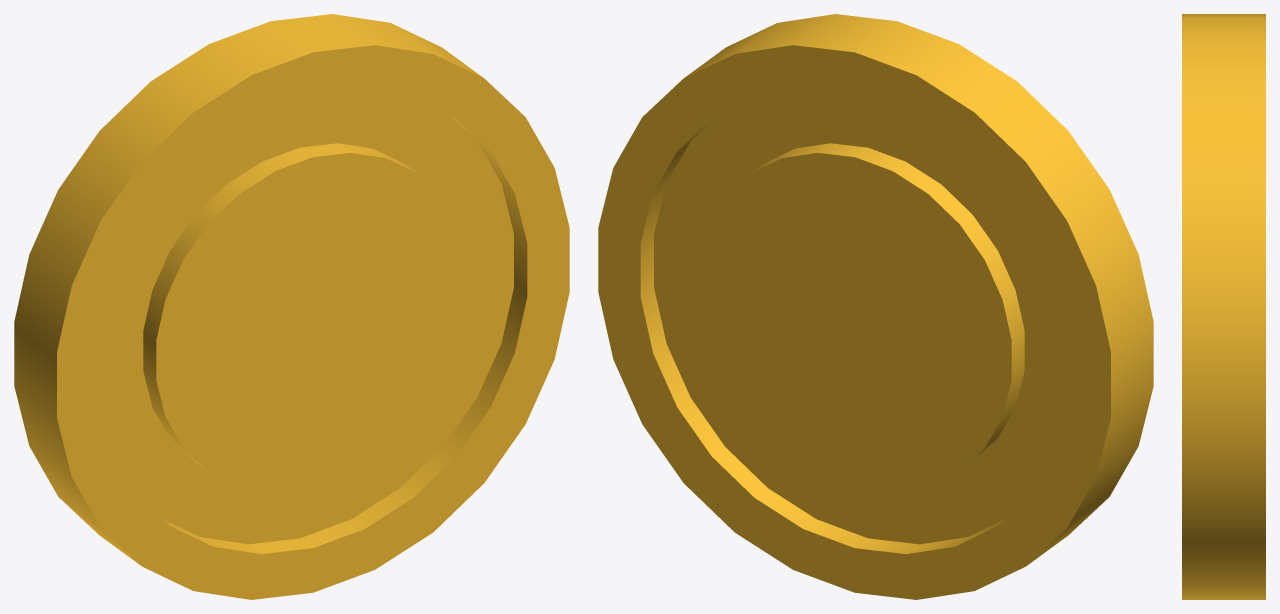
File: Coin_Gold.fbx
3 renders of one model, left to right at view 1: azimuth 30°, elevation 25°; view 2: azimuth 150°, elevation 25°; view 3: azimuth 270°, elevation 25°, orthographic.
Parts seen in each view (by area): view 1: Coin Gold; view 2: Coin Gold; view 3: Coin Gold.
Part boxes in pixels (x1=…): Coin Gold: x1=14, y1=14, x2=569, y2=599; Coin Gold: x1=598, y1=14, x2=1153, y2=599; Coin Gold: x1=1182, y1=14, x2=1265, y2=599.
Bounding box in the file's own units: 58.22 × 58.65 × 8.37.
Materials: 1 (1 with a texture image).
